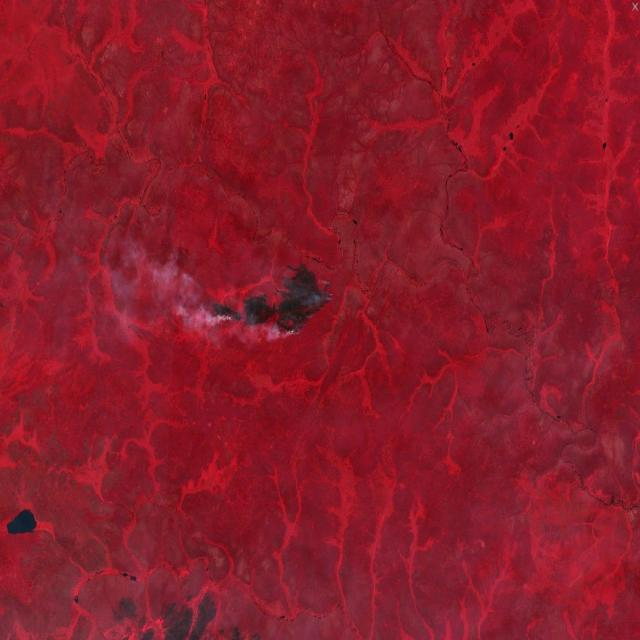fire: (211, 258, 337, 342)
